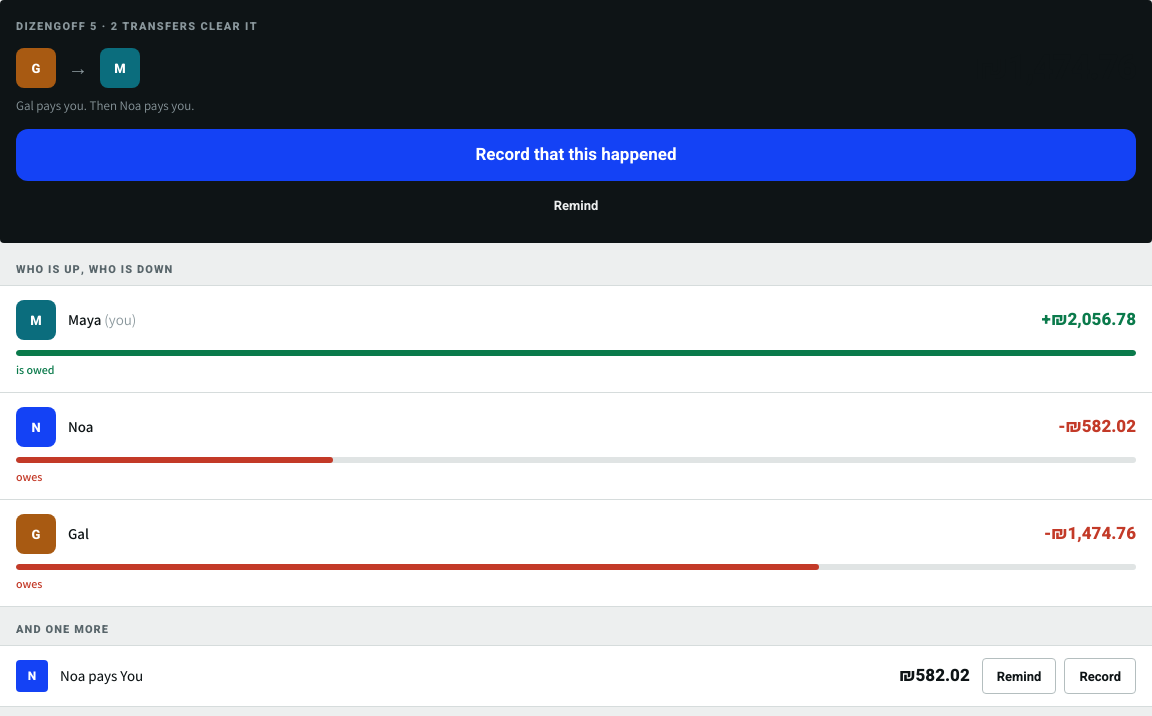
balances › lets you remind one person who owes you, and only them
Expected: the button with aria-label "Remind Noa to pay you back" is shown, [982,658,1056,694]
Click the button with aria-label "Remind Gal to pay you back". click: (576, 205)
box: [540,187,612,223]
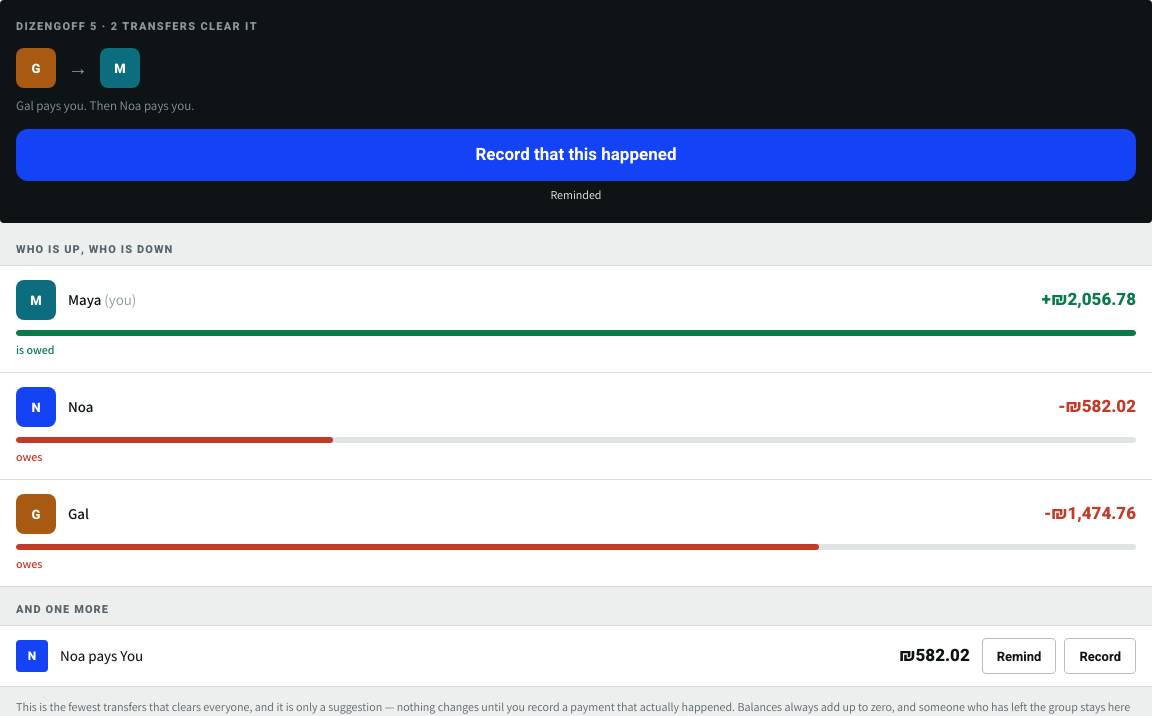
Expected: the button with aria-label "Remind Noa to pay you back" is enabled, [982,638,1056,674]
Result: the text "Reminded" is shown at [550,187,602,203]
